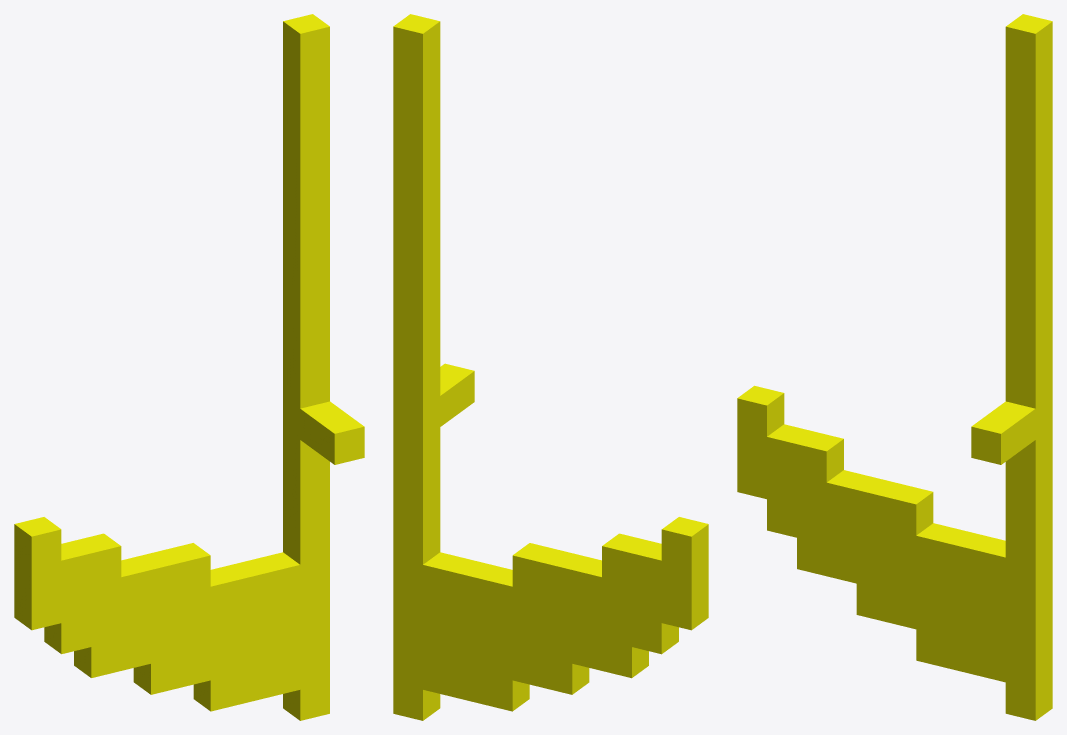
Rendered from voxel-farm-scythe.glb.
3 renders of one model, left to right at view 1: azimuth 30°, elevation 25°; view 2: azimuth 150°, elevation 25°; view 3: azimuth 330°, elevation 25°, orthographic.
Visible parts, largest first — view 1: VS_Farm_Scythe; view 2: VS_Farm_Scythe; view 3: VS_Farm_Scythe.
Part boxes in pixels (left/top/right/bottom): VS_Farm_Scythe: left=14, top=14, right=364, bottom=720; VS_Farm_Scythe: left=393, top=14, right=708, bottom=720; VS_Farm_Scythe: left=737, top=14, right=1052, bottom=720.
Size of the model in its own units: 0.9999 by 2.2 by 0.3.
